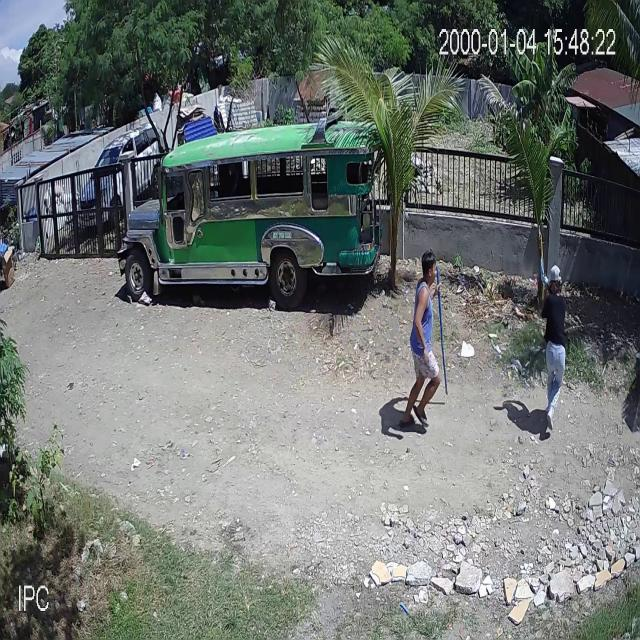running: (399, 252, 448, 428), (540, 254, 567, 431)
